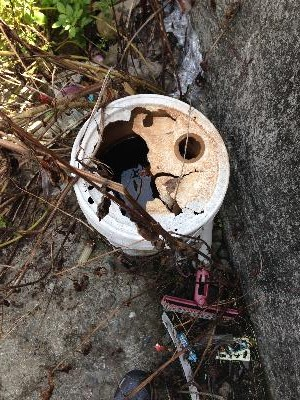bucket: (69, 92, 233, 262)
